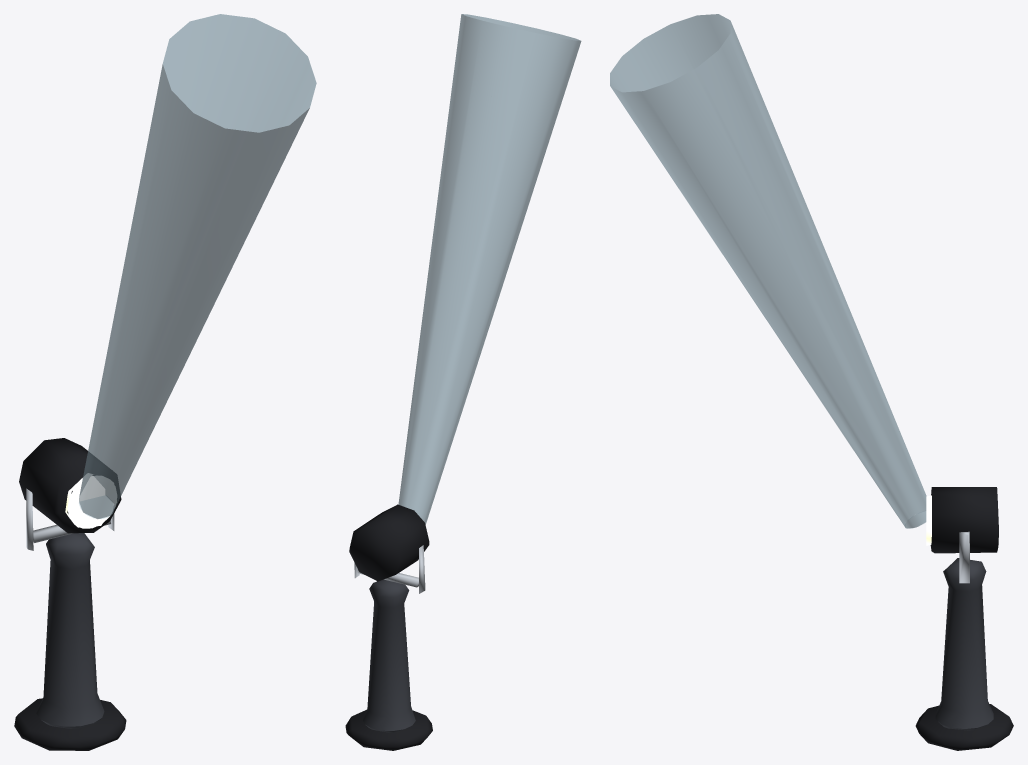
File: lod_spotlight_tower.glb
3 renders of one model, left to right at view 1: azimuth 30°, elevation 25°; view 2: azimuth 150°, elevation 25°; view 3: azimuth 270°, elevation 25°, orthographic. The views are drawn at different scales.
Parts seen in each view (by area): view 1: spotlight_tower; view 2: spotlight_tower; view 3: spotlight_tower.
Boxes of the visible parts, left/top/right/bottom form: spotlight_tower: left=14, top=14, right=316, bottom=750; spotlight_tower: left=345, top=14, right=581, bottom=750; spotlight_tower: left=610, top=14, right=1013, bottom=750.
Size of the model in its own units: 1.2 by 6.81 by 3.53.
